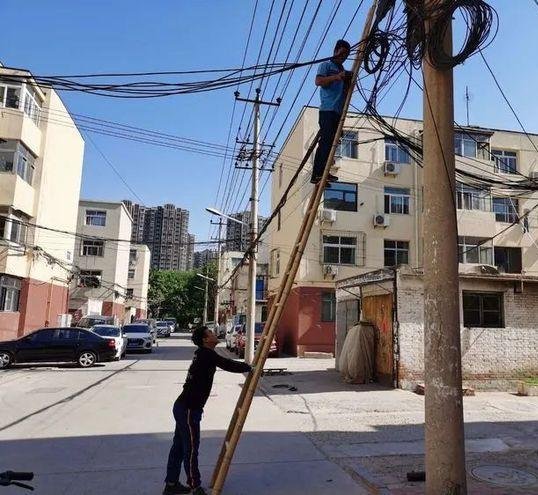安全帽、安全绳，工作服均未佩戴的工作人员: (309, 39, 355, 189)
安全帽、工作服均未穿戴的工作人员: (159, 322, 265, 493)
